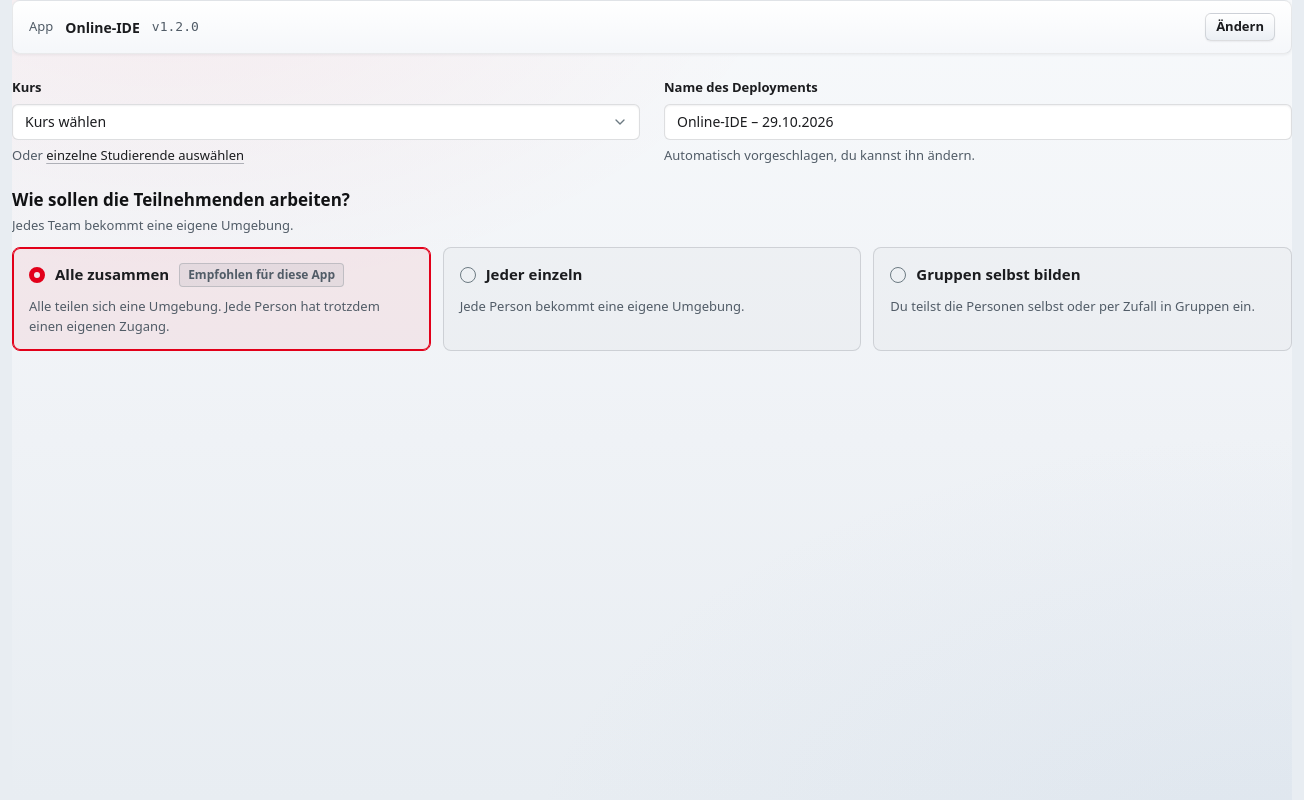
Scenario: StepTarget › wählt einzelne Studierende über die Suche
Click the button with test id "btn-pick-individually" at (145, 155), box left=46, top=146, right=244, bottom=165
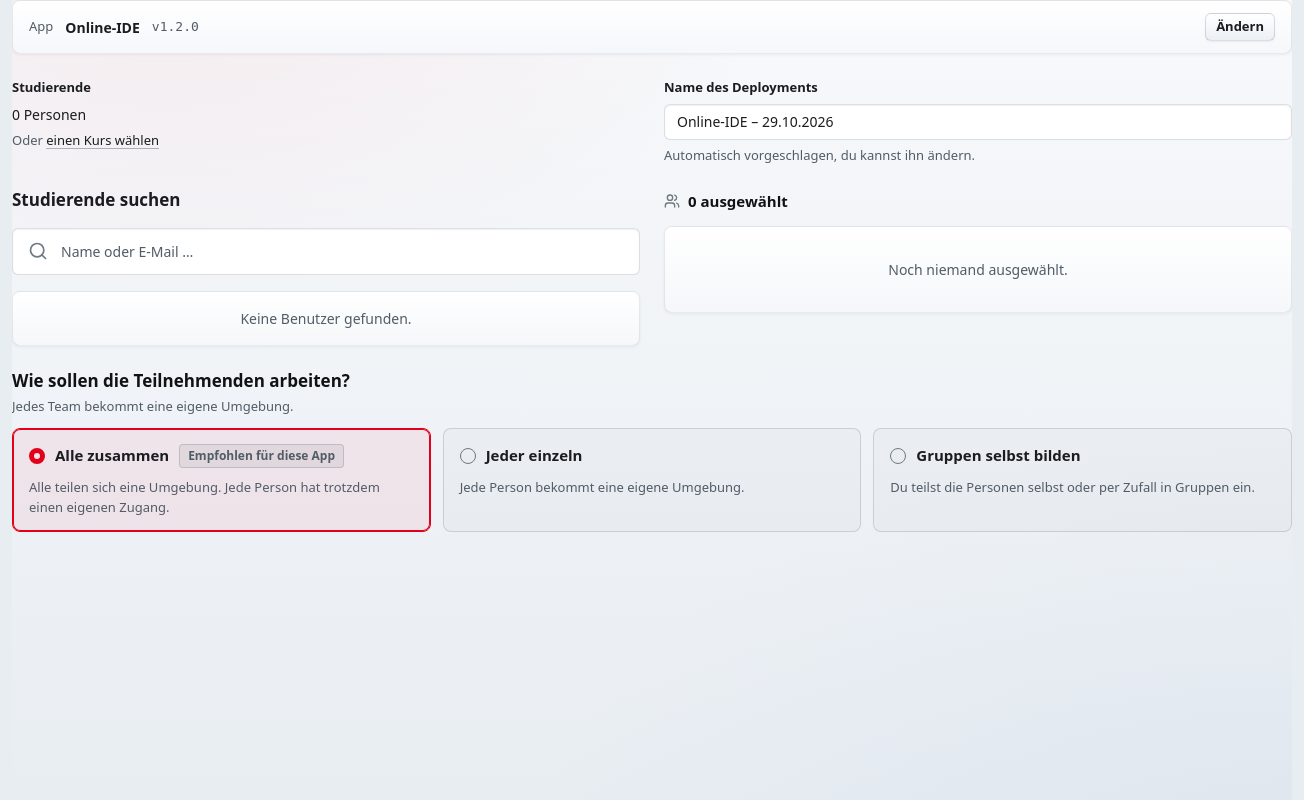
Type "mi" into the field with test id "student-search" at (326, 251), box left=12, top=228, right=640, bottom=275
Wait 400 ms
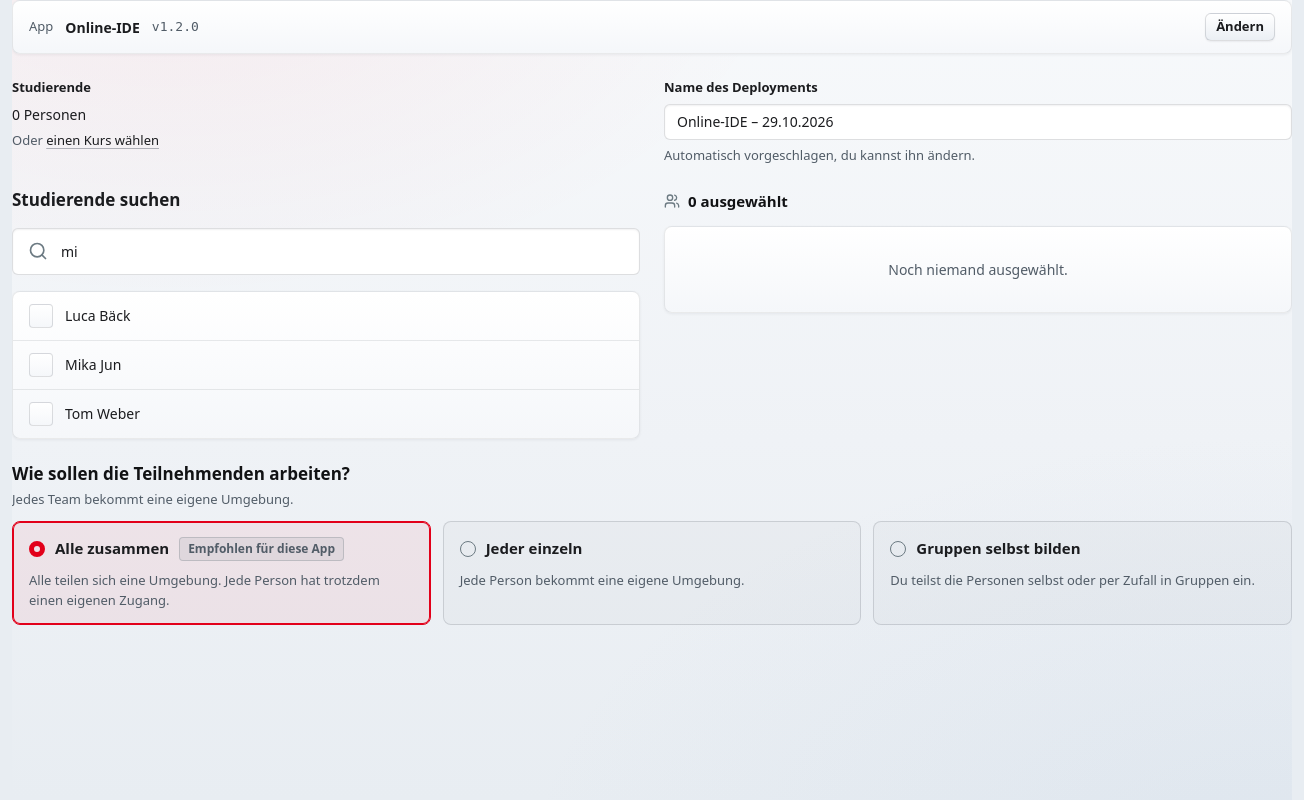
Click the element with test id "student-u2" at (326, 365), box left=13, top=341, right=639, bottom=390
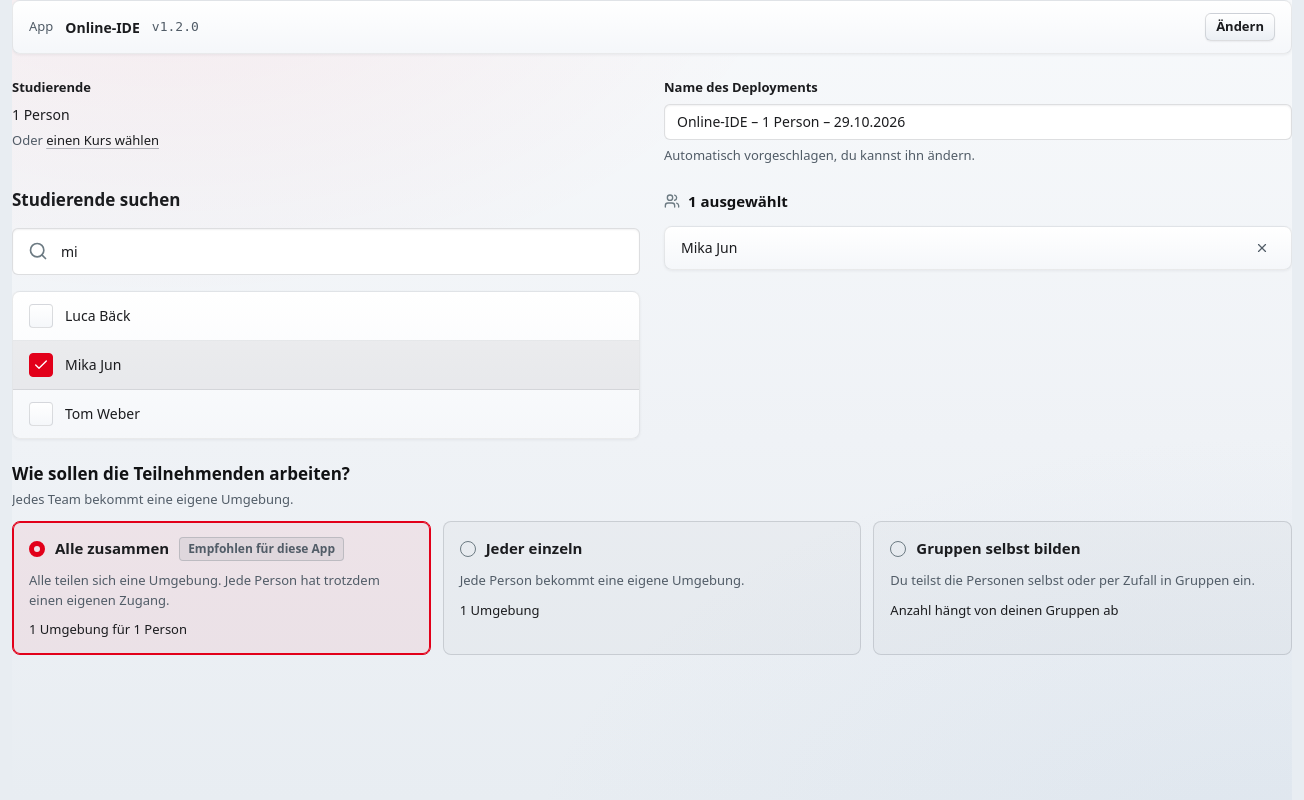
Result: the text with test id "picked-count" reads "1 Person" at left=12, top=104, right=70, bottom=124
